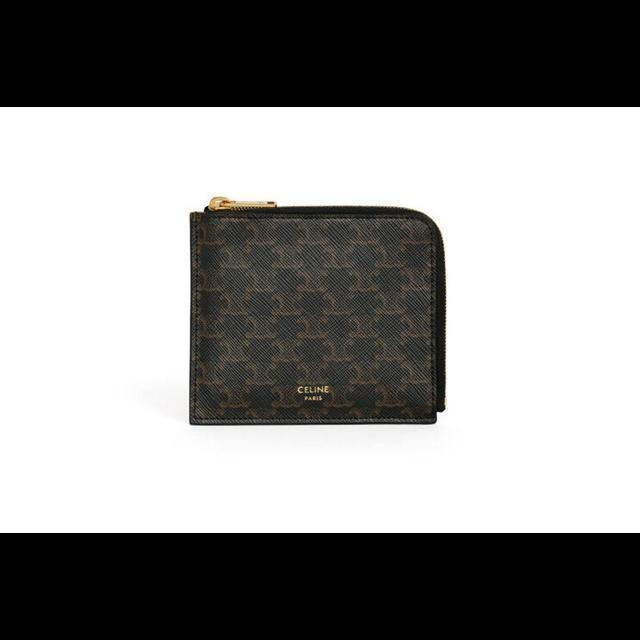wallet: (189, 208, 439, 424)
